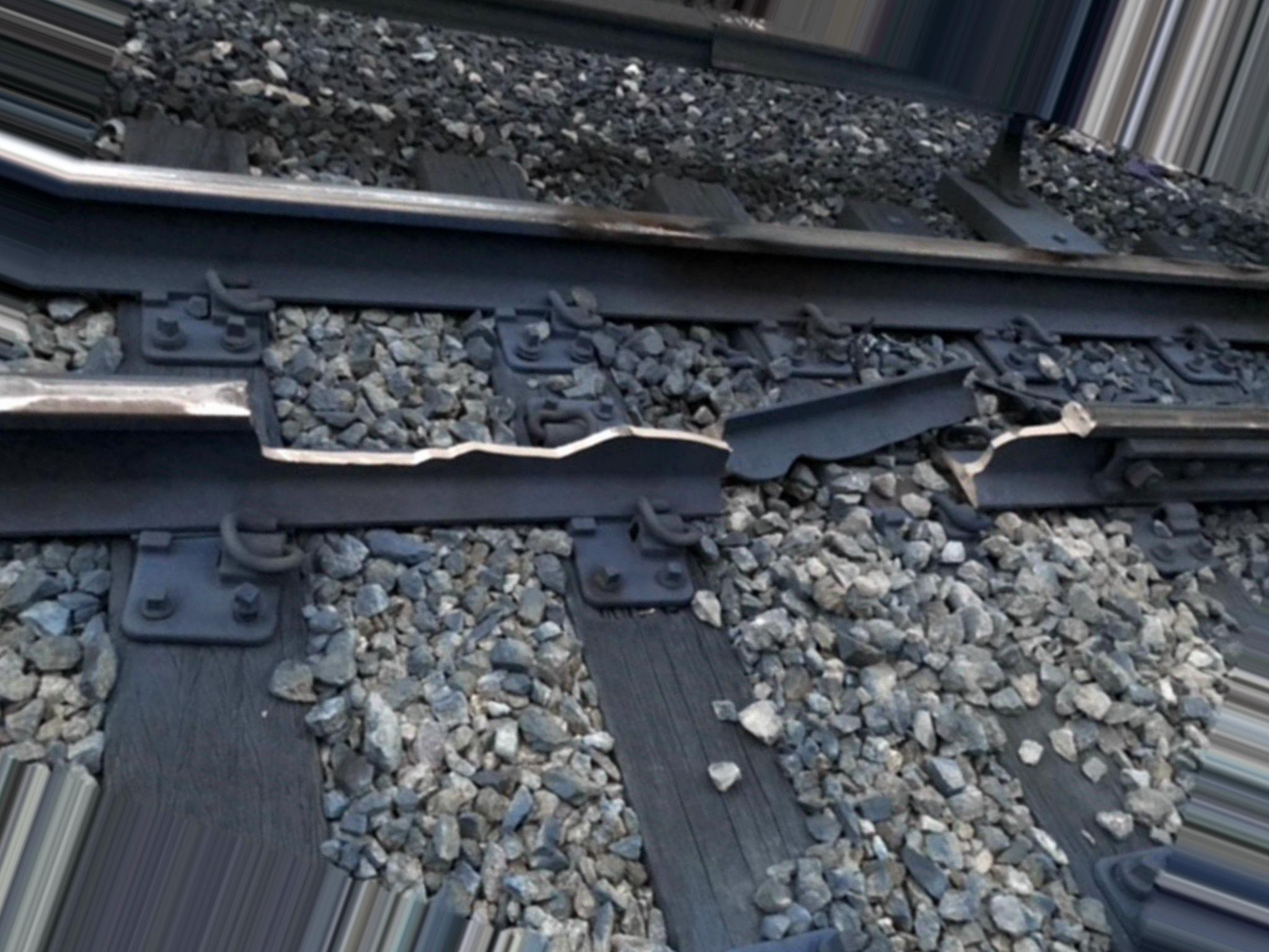tracks_fault: (189, 304, 1131, 621)
